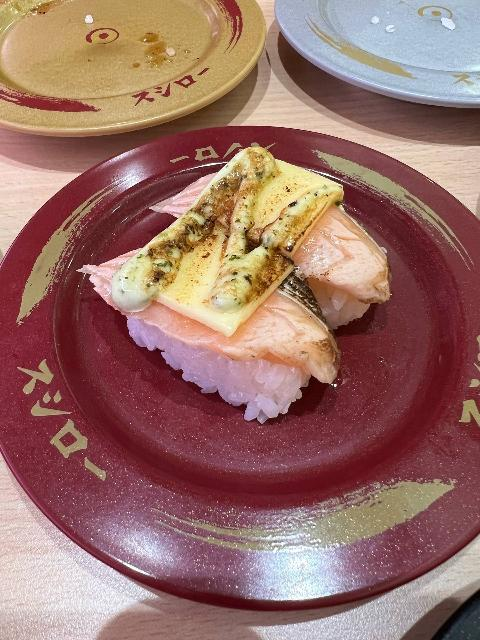jangold: (0, 0, 265, 136)
janred: (13, 124, 480, 579)
janwhite: (270, 0, 480, 123)
